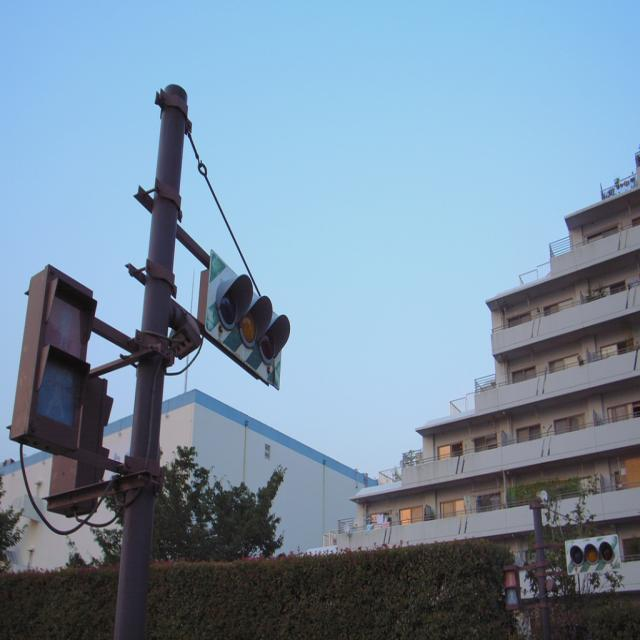traffic light: (198, 249, 292, 392), (564, 533, 623, 576), (503, 566, 521, 614)
